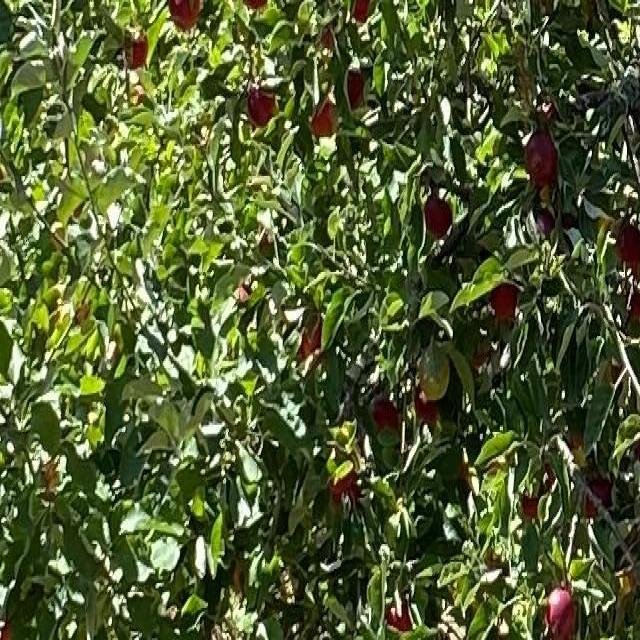Rotten Apple: (522, 459, 554, 517), (545, 587, 576, 638), (526, 132, 556, 183), (423, 192, 453, 238), (411, 380, 439, 425), (309, 96, 339, 137), (298, 311, 324, 356), (493, 279, 520, 322), (327, 460, 356, 500), (247, 84, 274, 126), (370, 393, 399, 430), (168, 0, 201, 32), (123, 30, 149, 70), (617, 220, 640, 265), (346, 62, 365, 110)
